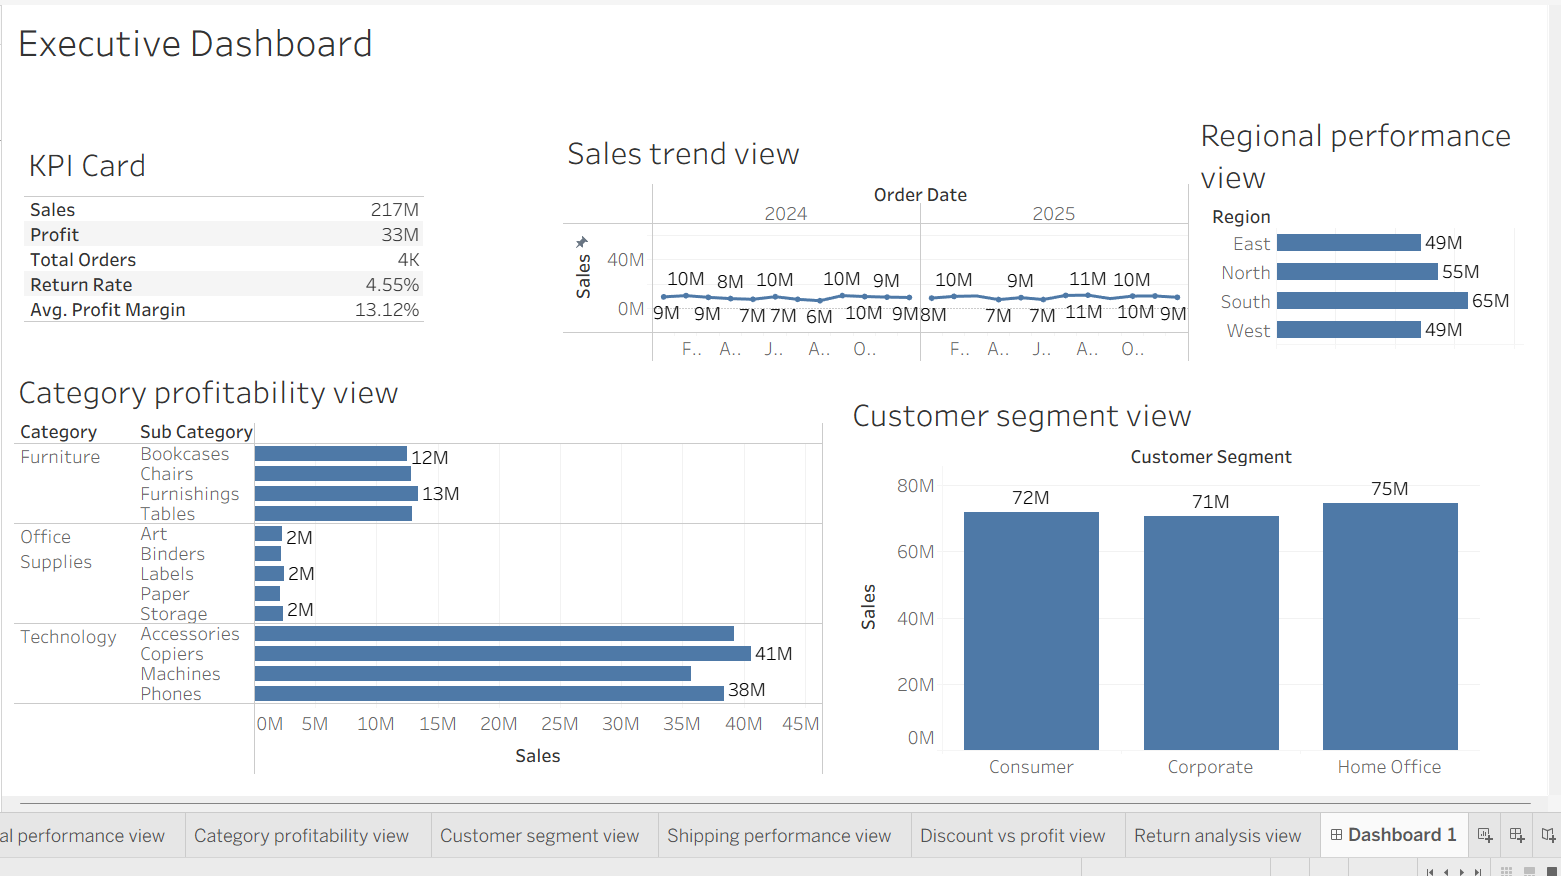

The page's visual inventory and layout, read from the dashboard file:
{"tool":"tableau","page":{"name":"Dashboard 1","canvas":[1000,1000],"units":"permille","ordinal":0},"visuals":[{"type":"title","box":[5.2,9.9,989.7,72]},{"type":"worksheet","title":"Regional performance view","mark":"Automatic","rows":["region"],"cols":["sales"],"box":[773,129,212.2,305.2]},{"type":"worksheet","title":"Sales trend view","mark":"Line","rows":["sales"],"cols":["order_date","order_date"],"box":[363.5,151.4,404.9,291.6]},{"type":"worksheet","title":"KPI Card","mark":"Automatic","box":[14.9,166.2,340.2,258.1]},{"type":"worksheet","title":"Category profitability view","mark":"Automatic","rows":["category","sub_category"],"cols":["sales"],"box":[8.5,447.9,523.2,536]},{"type":"worksheet","title":"Customer segment view","mark":"Automatic","rows":["sales"],"cols":["customer_segment"],"box":[548,476.4,408.9,497.5]}]}

Visuals, with their boxes on the dashboard's canvas, which has no fixed pixel size, in thousandths of its width and height (x1, y1, x2, y2). These are canvas units, not pixel positions in the 1561x876 screenshot, which may show the page scaled, cropped or inside an application window:
title: (left=5, top=10, right=995, bottom=82)
"Regional performance view" worksheet: (left=773, top=129, right=985, bottom=434)
"Sales trend view" worksheet (Line marks): (left=364, top=151, right=768, bottom=443)
"KPI Card" worksheet: (left=15, top=166, right=355, bottom=424)
"Category profitability view" worksheet: (left=8, top=448, right=532, bottom=984)
"Customer segment view" worksheet: (left=548, top=476, right=957, bottom=974)
